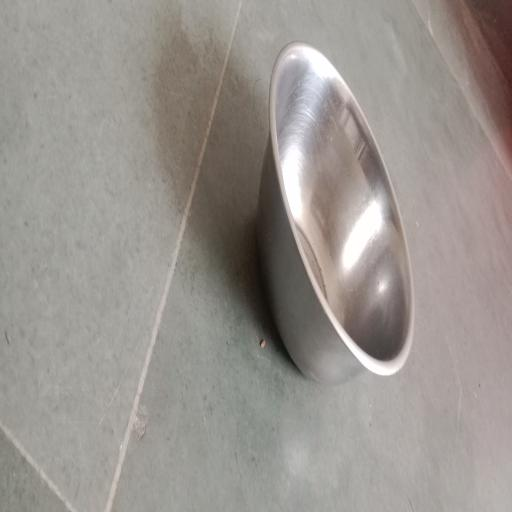Bowl: (257, 42, 414, 385)
